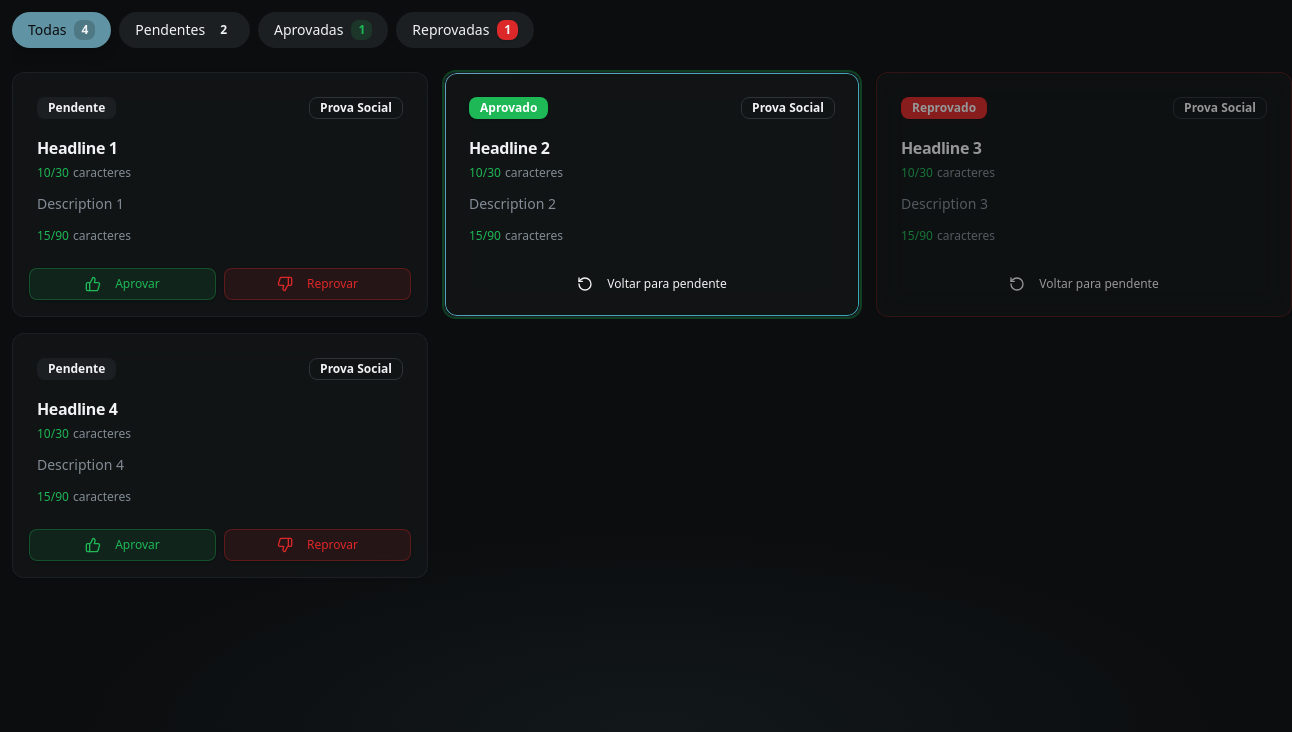
Test: VariationGrid › should filter by pending when clicking Pendentes
Click the button "Pendentes 2".
click(185, 30)  # box [119,12,250,48]
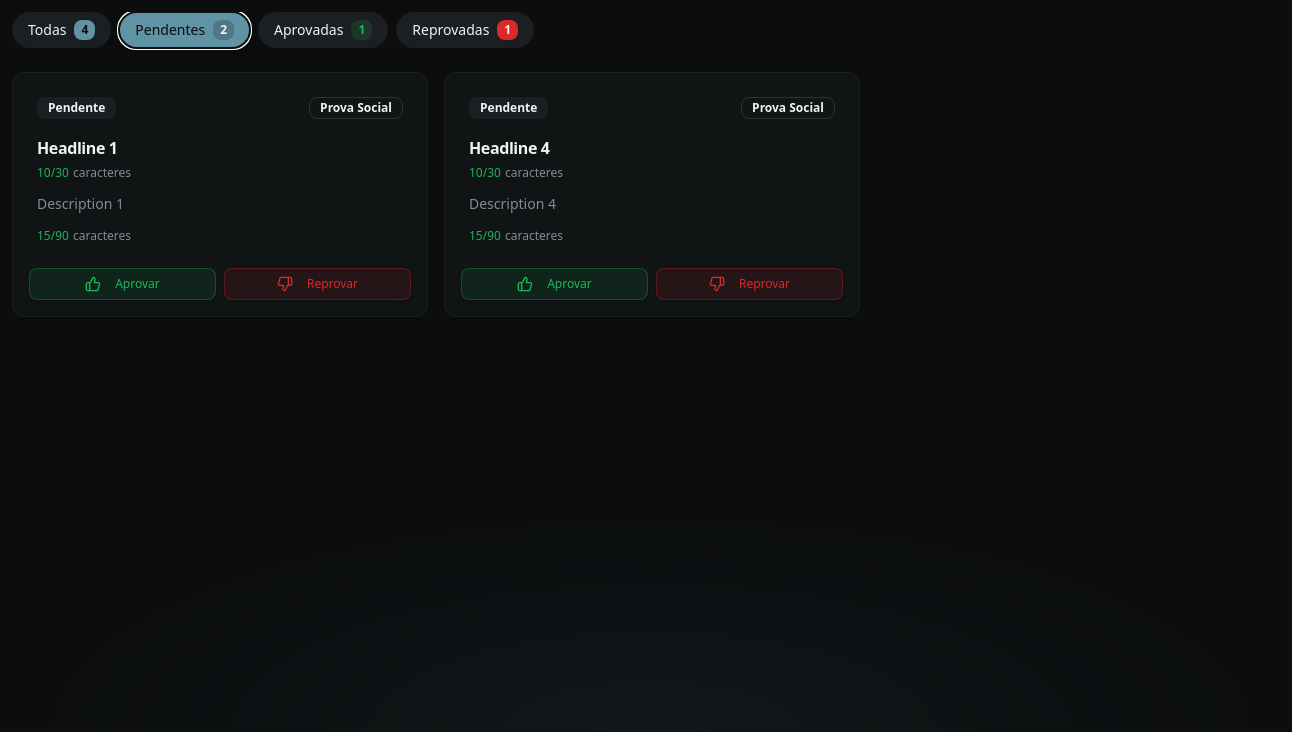
Expected: the text "Headline 1" is shown, [37,137,118,159]
Now the text "Headline 2" is gone
Now the text "Headline 3" is gone
